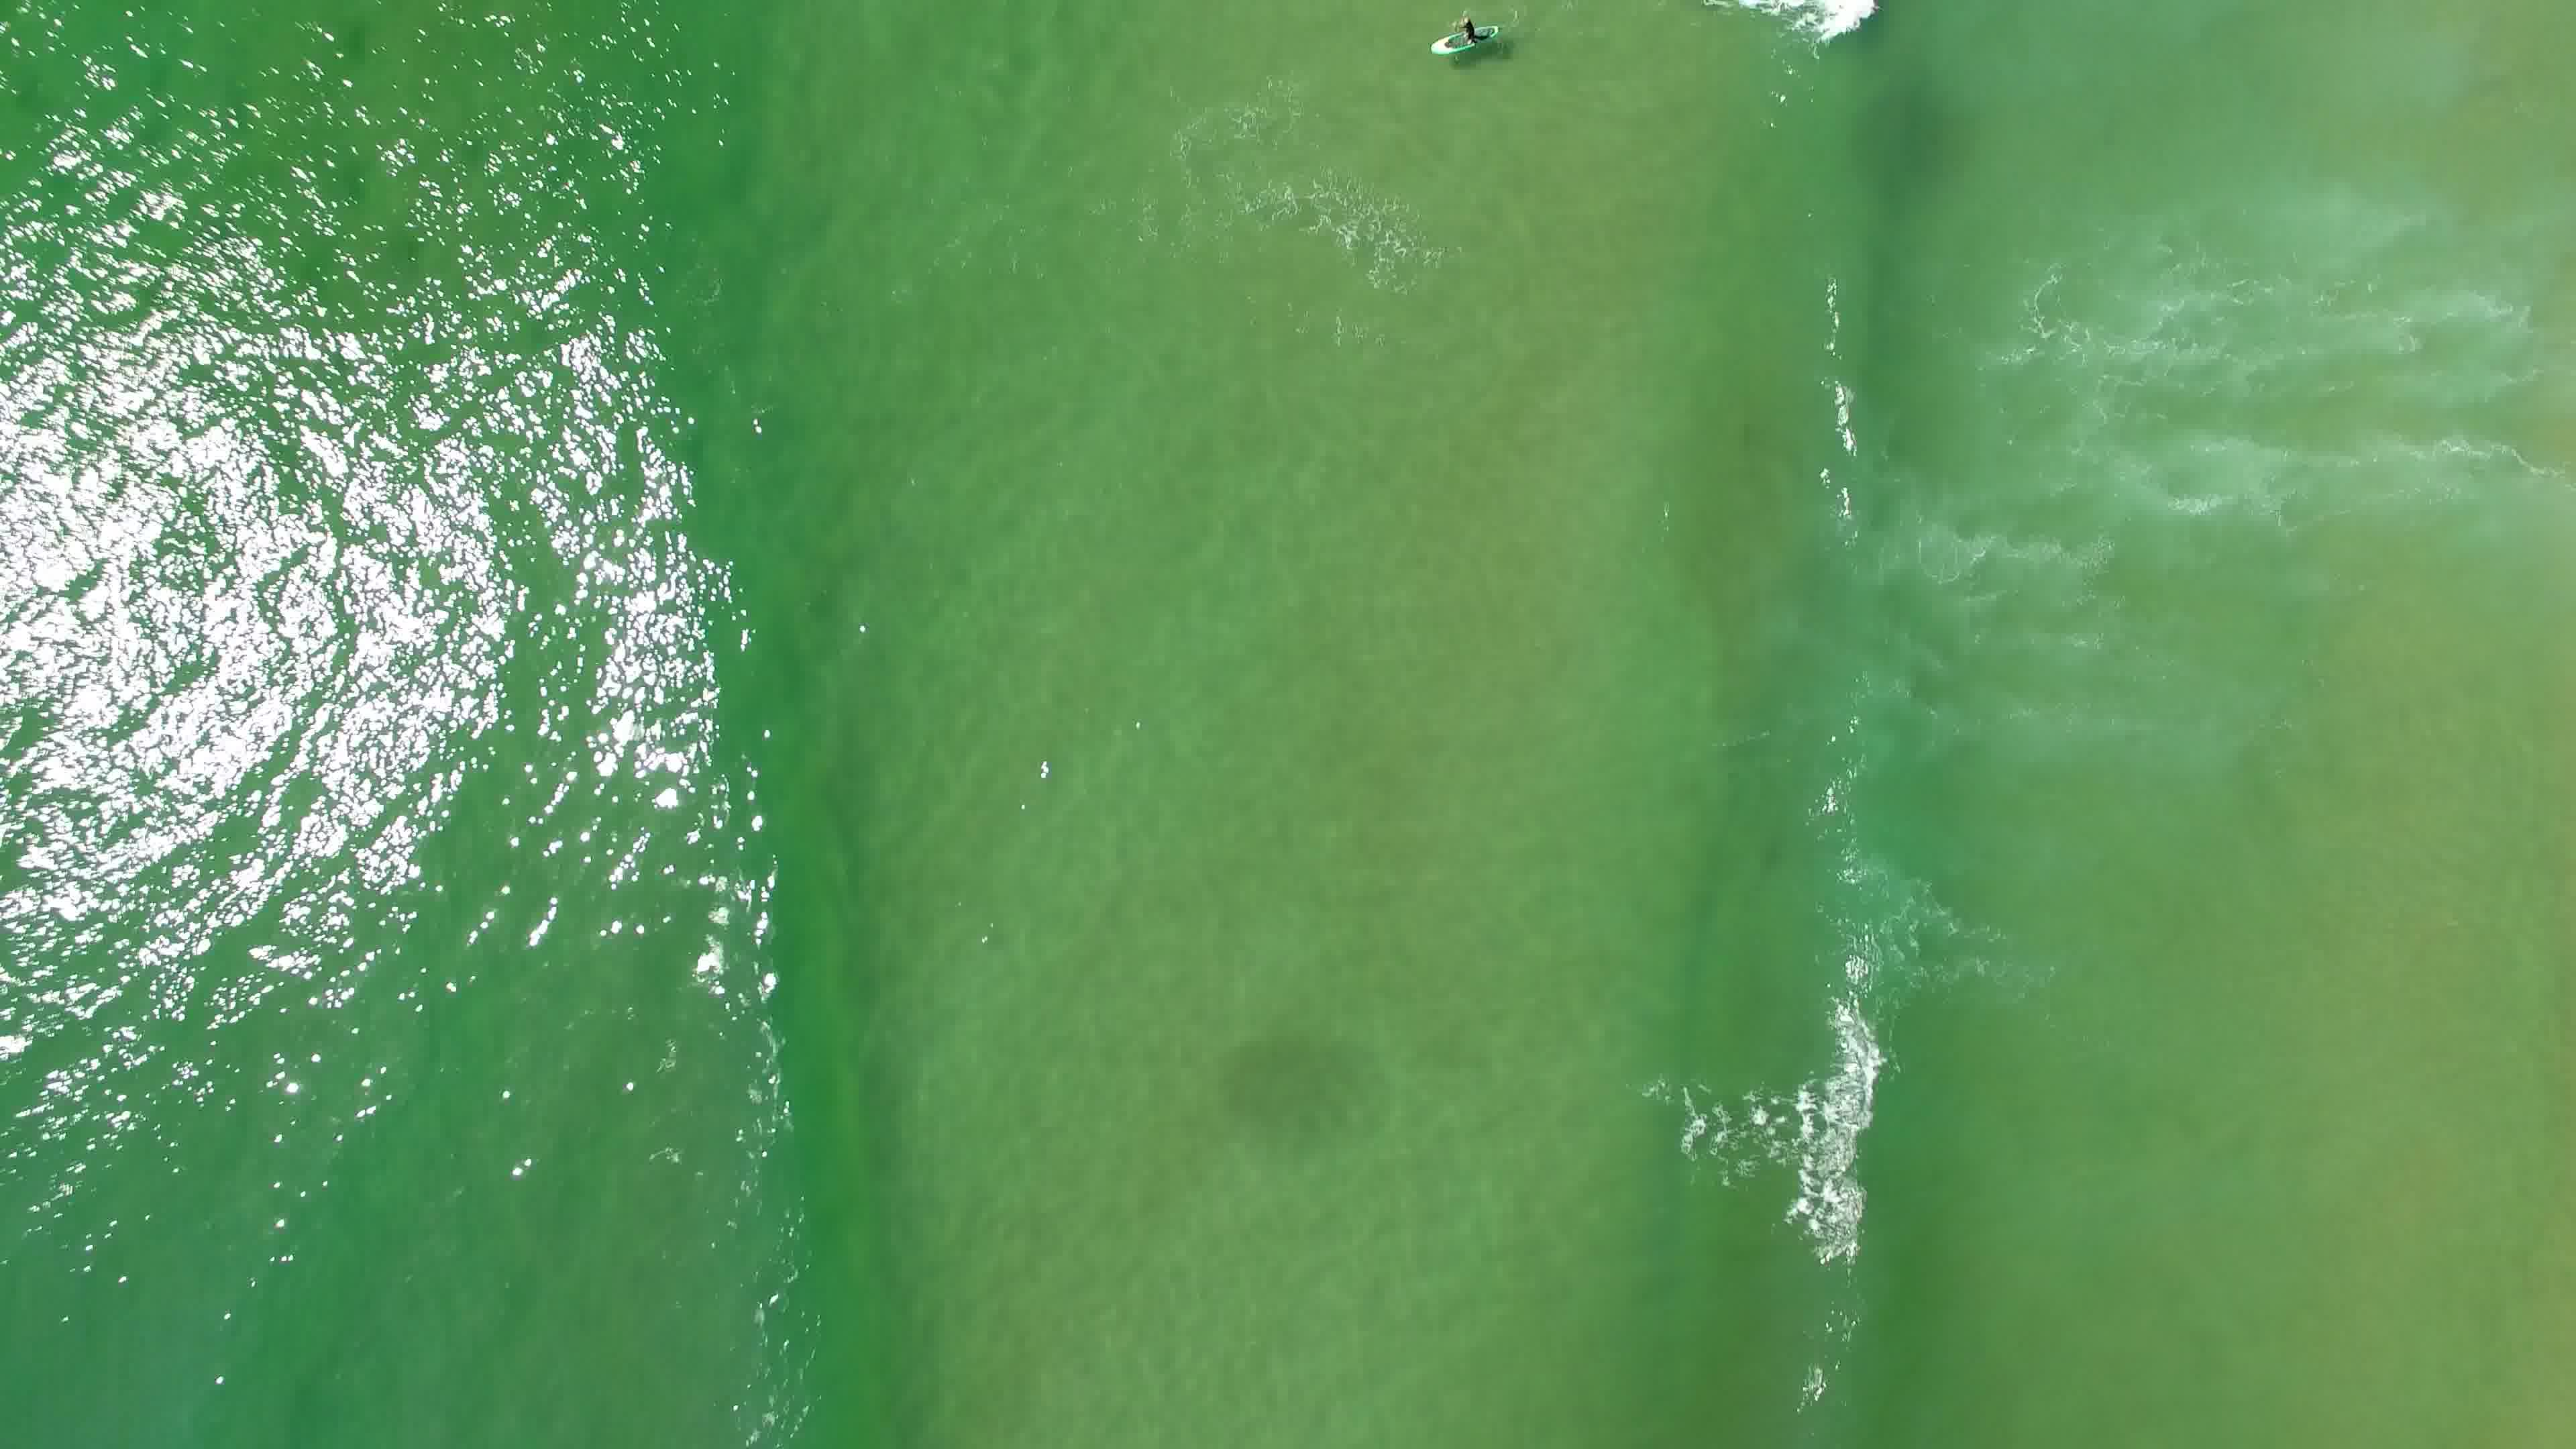surfer: (1422, 14, 1507, 60)
